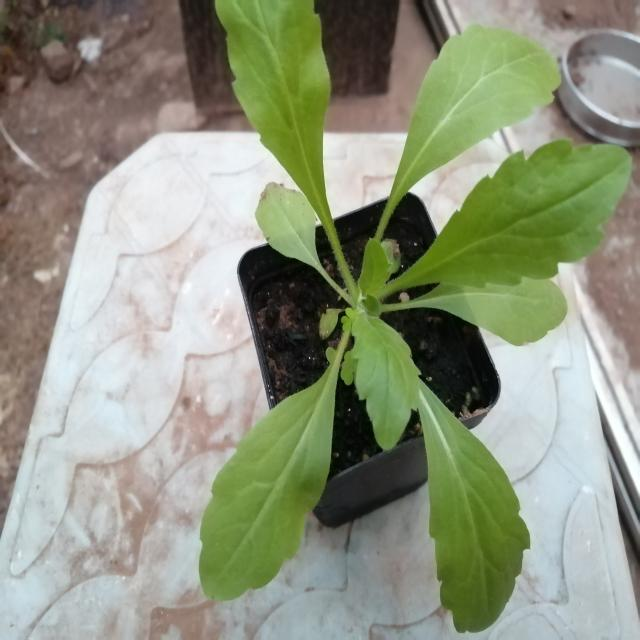horseweed: (181, 2, 614, 585)
